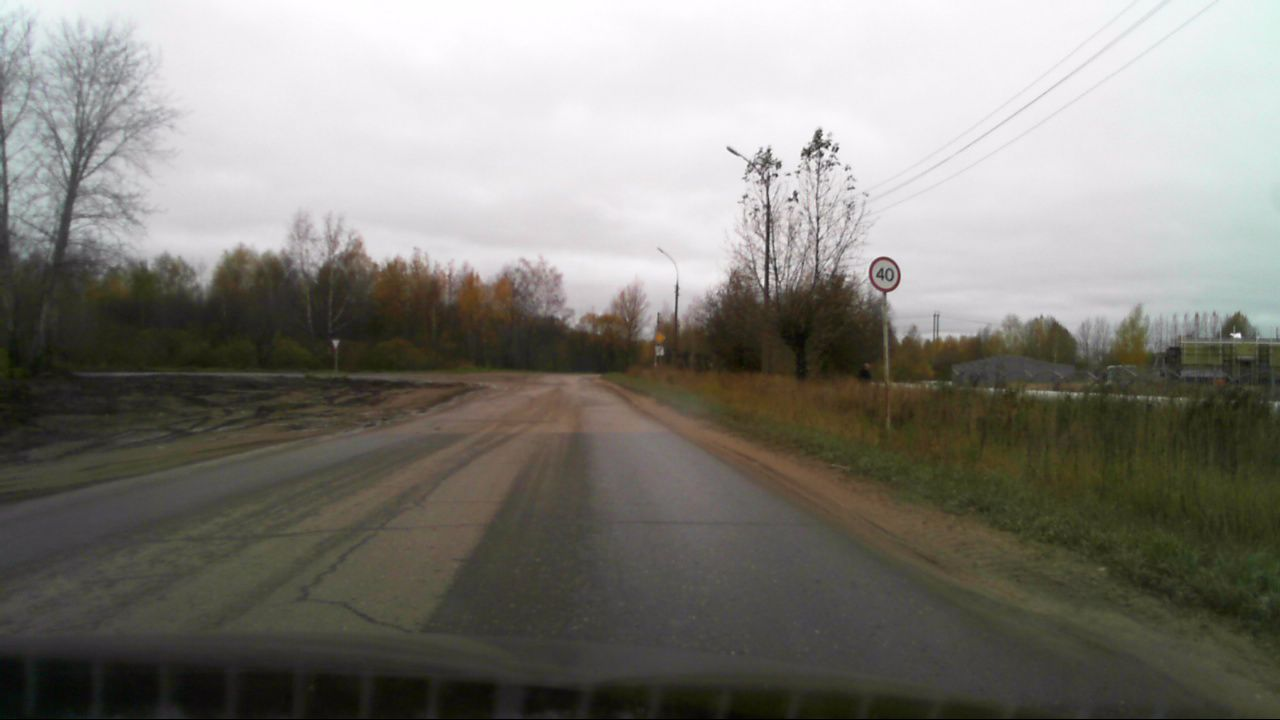speed_warning_40: (869, 255, 901, 292)
